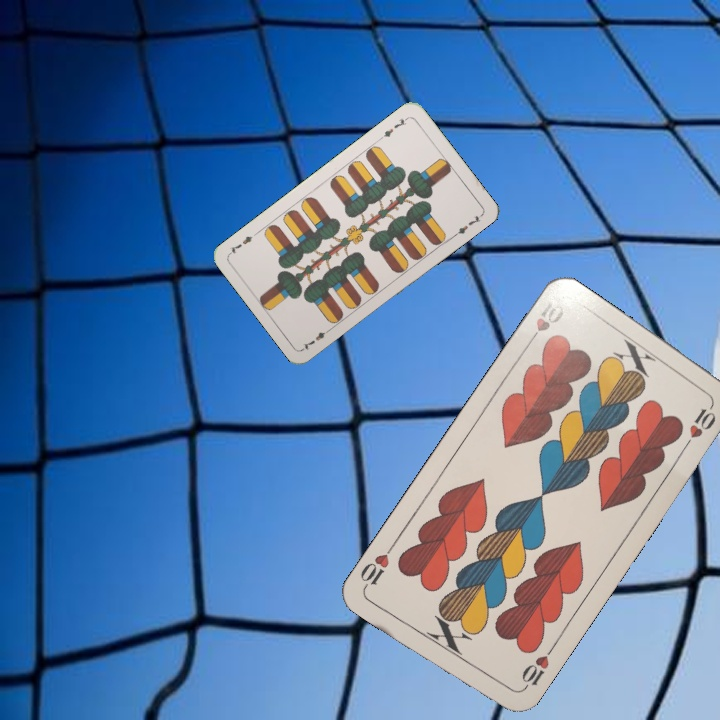E7: (376, 113, 411, 143), (299, 323, 334, 352)
H10: (523, 293, 567, 349), (515, 644, 556, 695)
